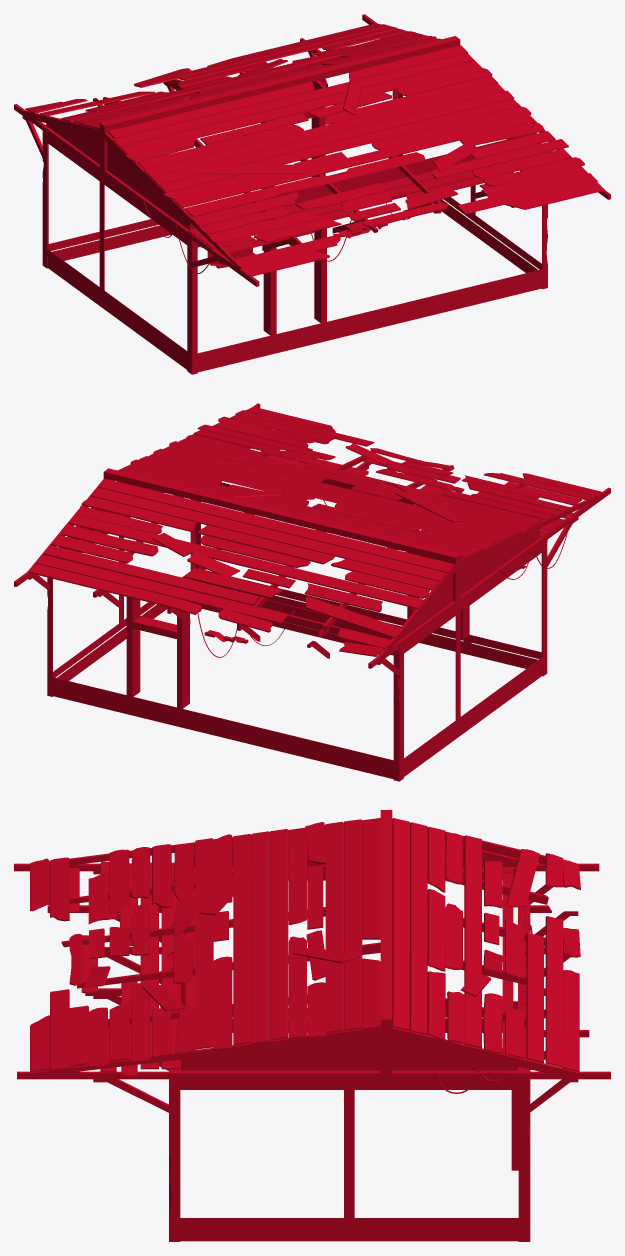
The model's file is Miscellaneous_Scale.fbx.
The picture shows the model from 3 angles, top to bottom: view 1: azimuth 30°, elevation 25°; view 2: azimuth 150°, elevation 25°; view 3: azimuth 270°, elevation 25°; orthographic projection. The views are drawn at different scales.
Parts seen in each view (by area): view 1: SM_ST_Office01.mo; view 2: SM_ST_Office01.mo; view 3: SM_ST_Office01.mo.
Boxes of the visible parts, box(x1,y1,x2,y2) form: SM_ST_Office01.mo: box(14, 14, 610, 374); SM_ST_Office01.mo: box(14, 403, 610, 781); SM_ST_Office01.mo: box(14, 810, 610, 1241).
Bounding box in the file's own units: 1238 × 1455 × 598.
